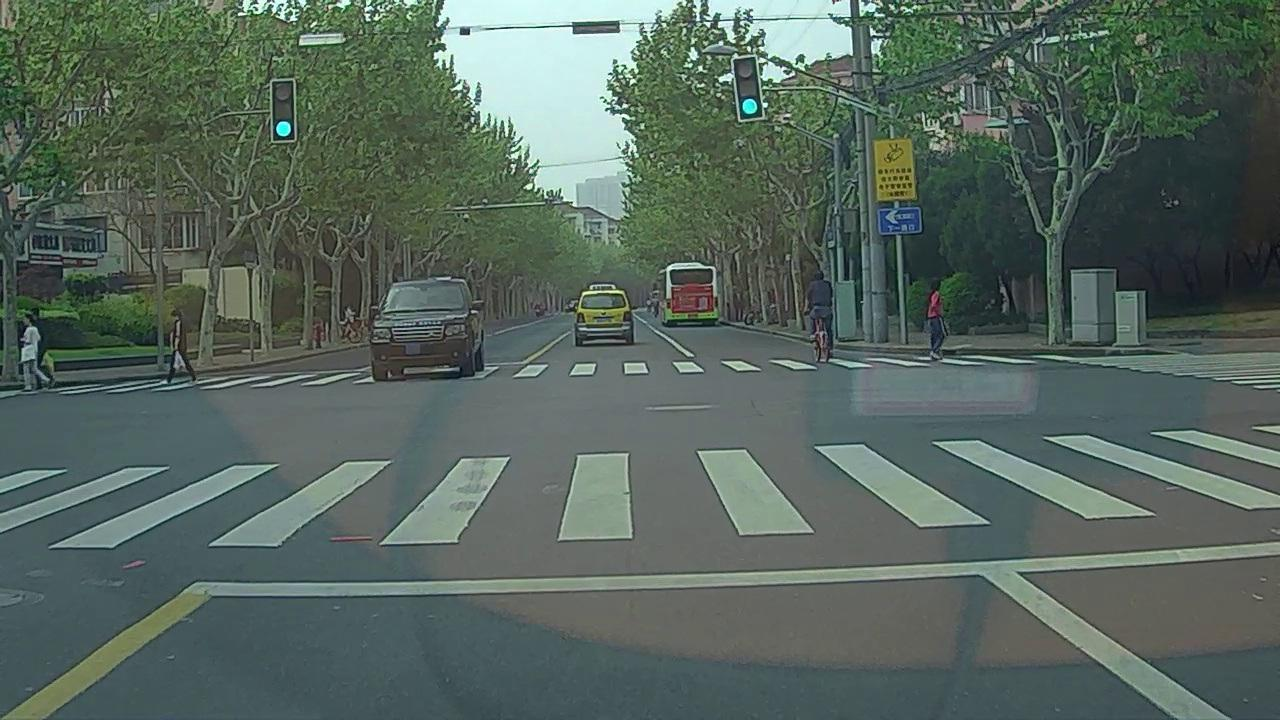traffic_light: (733, 60, 763, 119), (273, 82, 294, 141)
